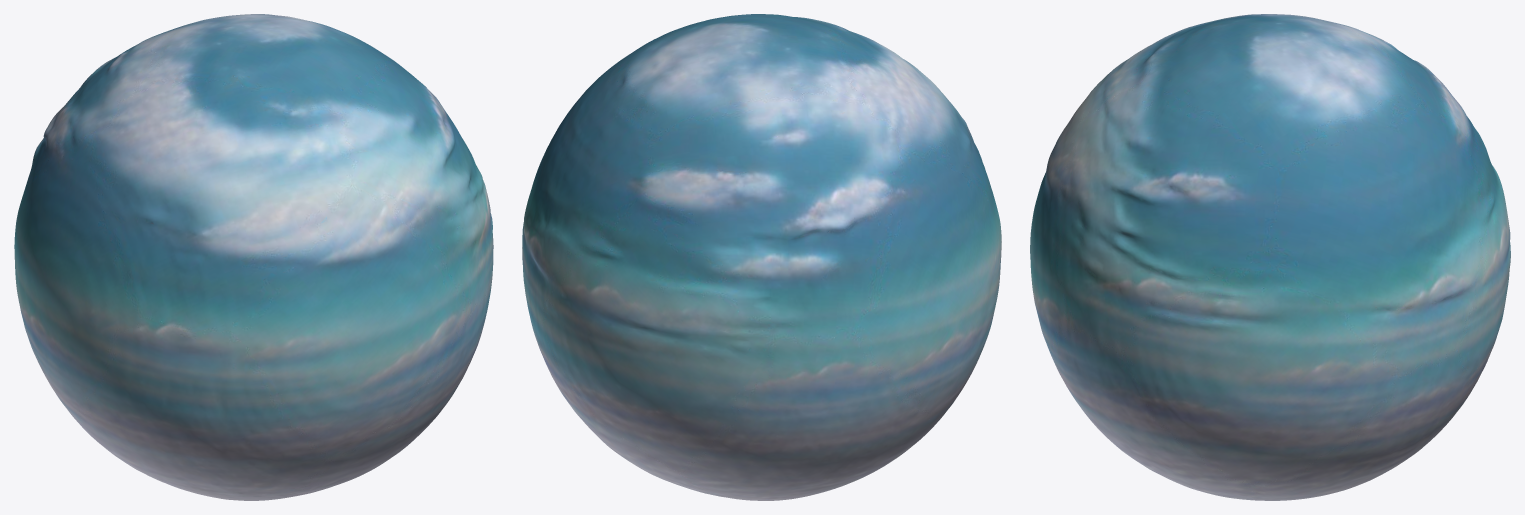
File: peace.glb
The picture shows the model from 3 angles, left to right: view 1: azimuth 30°, elevation 25°; view 2: azimuth 150°, elevation 25°; view 3: azimuth 270°, elevation 25°; orthographic projection.
Visible parts, largest first — view 1: geometry_0; view 2: geometry_0; view 3: geometry_0.
Boxes of the visible parts, x1,y1,x2,y2 form: geometry_0: [14, 14, 493, 500]; geometry_0: [522, 14, 1001, 500]; geometry_0: [1030, 14, 1510, 500].
Size of the model in its own units: 0.587 by 0.5976 by 0.5876.
Materials: 1 (1 with a texture image).
